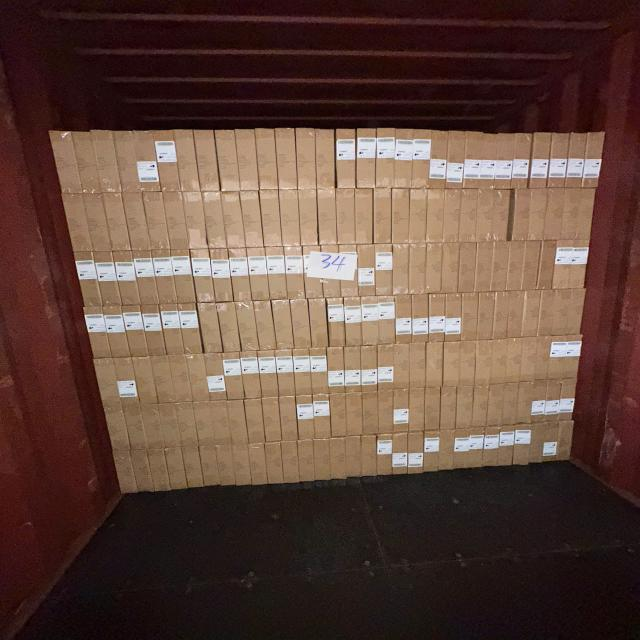Carton: (48, 130, 84, 193), (60, 192, 94, 253), (71, 130, 103, 194), (90, 130, 122, 193), (112, 130, 142, 193), (100, 194, 131, 250), (174, 132, 202, 194), (84, 196, 114, 253), (123, 193, 152, 251), (156, 131, 183, 193), (72, 252, 103, 306), (216, 131, 242, 193), (134, 130, 160, 192), (196, 131, 221, 193), (145, 193, 172, 250), (94, 253, 123, 306), (92, 358, 124, 406), (112, 253, 140, 307), (85, 306, 113, 358), (184, 192, 209, 249), (134, 252, 160, 306), (103, 305, 130, 357), (154, 252, 180, 305), (166, 193, 190, 250), (256, 130, 278, 192), (276, 128, 298, 190), (204, 192, 228, 248), (237, 131, 259, 192), (102, 406, 131, 452), (123, 305, 149, 356), (294, 128, 315, 190), (190, 252, 215, 304), (172, 251, 196, 305), (113, 358, 140, 406), (240, 191, 263, 247), (337, 128, 358, 189), (317, 129, 338, 190), (376, 128, 397, 188), (121, 405, 149, 450), (134, 357, 160, 405), (140, 403, 166, 451), (355, 129, 376, 188), (222, 192, 244, 248), (583, 132, 605, 188), (494, 132, 516, 188), (510, 132, 532, 188), (142, 305, 166, 356), (412, 128, 432, 189), (428, 129, 448, 190), (211, 250, 234, 303), (200, 304, 224, 354), (393, 128, 413, 188), (162, 304, 186, 354), (192, 400, 218, 446), (231, 249, 253, 303), (530, 133, 551, 189), (129, 449, 155, 494), (146, 448, 172, 493), (462, 131, 482, 189), (152, 354, 176, 402), (218, 302, 241, 352), (157, 402, 182, 448), (112, 450, 138, 494), (527, 188, 549, 240), (559, 188, 581, 240), (574, 188, 596, 240), (263, 190, 283, 247), (280, 190, 300, 247), (299, 190, 319, 247), (444, 130, 463, 190), (248, 249, 269, 303), (267, 248, 288, 302), (169, 355, 192, 404), (174, 402, 199, 447), (550, 133, 570, 189), (304, 248, 325, 301), (180, 304, 202, 354), (187, 354, 209, 404), (566, 133, 586, 188), (510, 188, 531, 240), (164, 446, 188, 491), (478, 134, 498, 188), (237, 304, 259, 353), (550, 287, 572, 336), (553, 240, 575, 289), (318, 189, 337, 245), (337, 188, 356, 244), (390, 189, 409, 245), (340, 245, 360, 298), (545, 187, 565, 240), (568, 240, 590, 288), (354, 190, 373, 245), (441, 189, 460, 244), (459, 190, 479, 242), (564, 288, 586, 335), (409, 190, 428, 244), (425, 190, 444, 244), (375, 243, 394, 297), (322, 247, 342, 298), (211, 400, 233, 446), (537, 290, 559, 336), (374, 189, 392, 245), (206, 354, 227, 402), (180, 447, 204, 489), (285, 248, 304, 301), (357, 246, 376, 299), (391, 245, 410, 298), (310, 299, 330, 349), (274, 301, 294, 351), (326, 299, 346, 349), (255, 301, 275, 351), (344, 298, 364, 348), (228, 400, 250, 445), (409, 243, 428, 295), (522, 240, 541, 292), (492, 189, 511, 241), (378, 344, 399, 391), (292, 300, 312, 349), (360, 296, 380, 345), (214, 444, 237, 486), (242, 352, 262, 400), (508, 243, 527, 293), (562, 334, 583, 379), (223, 352, 243, 399), (260, 352, 280, 399), (476, 188, 494, 240), (245, 400, 266, 444), (443, 243, 461, 294), (425, 243, 443, 294), (459, 242, 477, 293), (477, 241, 495, 292), (537, 240, 555, 291), (310, 347, 329, 395), (522, 290, 541, 338), (488, 383, 509, 426), (557, 378, 578, 421), (198, 445, 220, 486), (264, 399, 284, 444), (394, 294, 412, 344), (518, 337, 538, 382), (277, 351, 296, 398), (293, 350, 312, 397), (326, 347, 345, 394), (412, 294, 430, 343), (446, 294, 464, 343), (378, 295, 396, 344), (478, 293, 496, 342), (501, 382, 521, 426), (548, 336, 568, 380), (427, 294, 445, 342), (506, 290, 524, 338), (248, 444, 268, 487), (232, 444, 252, 487), (295, 397, 314, 442), (360, 347, 378, 394), (542, 378, 561, 422), (492, 243, 508, 295), (426, 342, 444, 388), (314, 394, 332, 440), (344, 348, 362, 394), (476, 339, 494, 385), (392, 344, 410, 390), (512, 423, 531, 466), (461, 294, 478, 342), (493, 291, 510, 339), (280, 398, 298, 443), (344, 437, 362, 482), (461, 340, 478, 387), (491, 338, 508, 385), (483, 426, 502, 468), (407, 433, 425, 477), (296, 441, 314, 485), (346, 394, 364, 438), (361, 391, 379, 435), (530, 378, 548, 422), (424, 386, 441, 432), (410, 343, 427, 389), (441, 342, 458, 388), (535, 335, 552, 381), (266, 443, 284, 486), (456, 386, 474, 429), (281, 442, 299, 485), (517, 381, 535, 424), (314, 440, 332, 483), (330, 436, 348, 479), (555, 419, 573, 462), (441, 386, 458, 431), (409, 387, 426, 432), (392, 390, 409, 435), (378, 389, 395, 434), (360, 436, 377, 480), (377, 435, 394, 479), (391, 434, 408, 478), (474, 385, 491, 428), (329, 394, 346, 437), (438, 428, 455, 471), (506, 337, 522, 382), (497, 426, 514, 468), (468, 426, 484, 469), (423, 432, 439, 474), (528, 422, 544, 464), (542, 421, 558, 463), (454, 428, 470, 469)
